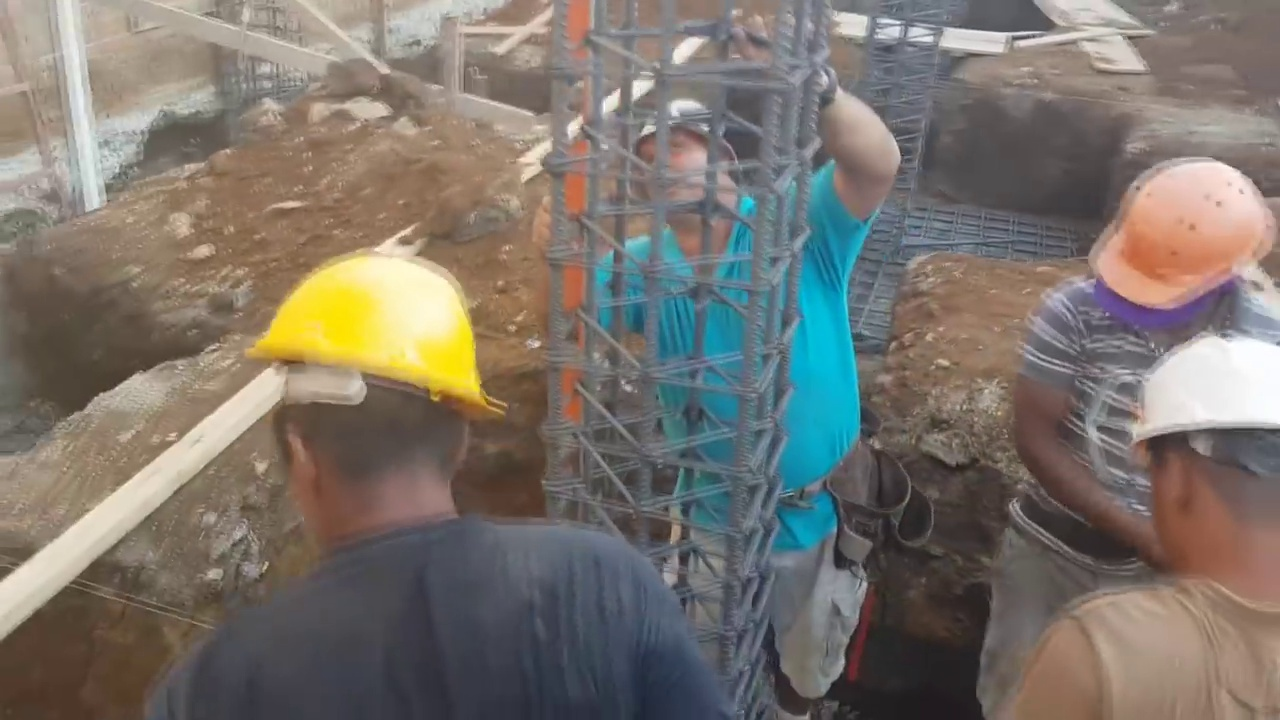helmet: (247, 249, 512, 426), (1102, 157, 1275, 314), (1135, 340, 1280, 461)
helmet-off: (625, 96, 753, 264)
helmet-on: (237, 253, 514, 524), (1127, 333, 1280, 615), (1083, 154, 1279, 338)
person: (132, 248, 719, 714), (536, 14, 900, 714), (975, 152, 1280, 720), (995, 310, 1280, 720)
